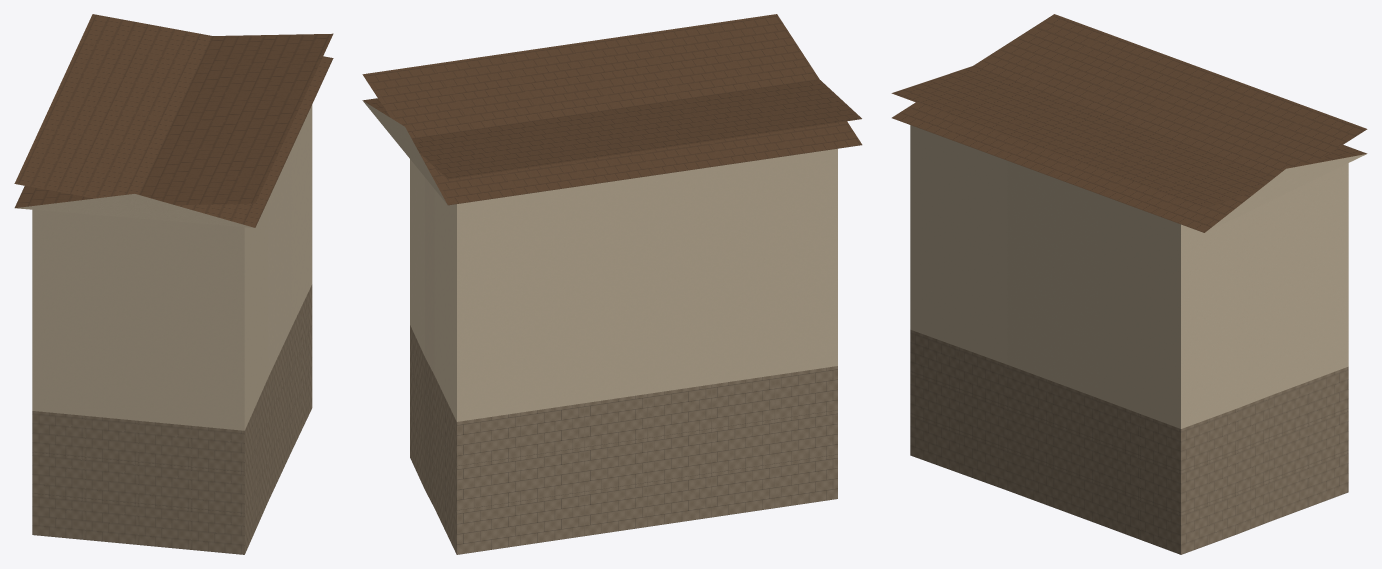
File: bld_c14_36_413.gltf
3 views of the same model, side by side, from view 1: azimuth 30°, elevation 25°; view 2: azimuth 150°, elevation 25°; view 3: azimuth 270°, elevation 25° (orthographic). The views are drawn at different scales.
Visible parts, largest first — view 1: bld_c14_36_413; view 2: bld_c14_36_413; view 3: bld_c14_36_413.
Boxes of the visible parts, x1,y1,x2,y2 form: bld_c14_36_413: (14, 14, 333, 554); bld_c14_36_413: (362, 14, 862, 554); bld_c14_36_413: (891, 14, 1367, 554).
Bounding box in the file's own units: 16.89 × 14.7 × 17.5.
Materials: 4 (4 with a texture image).
